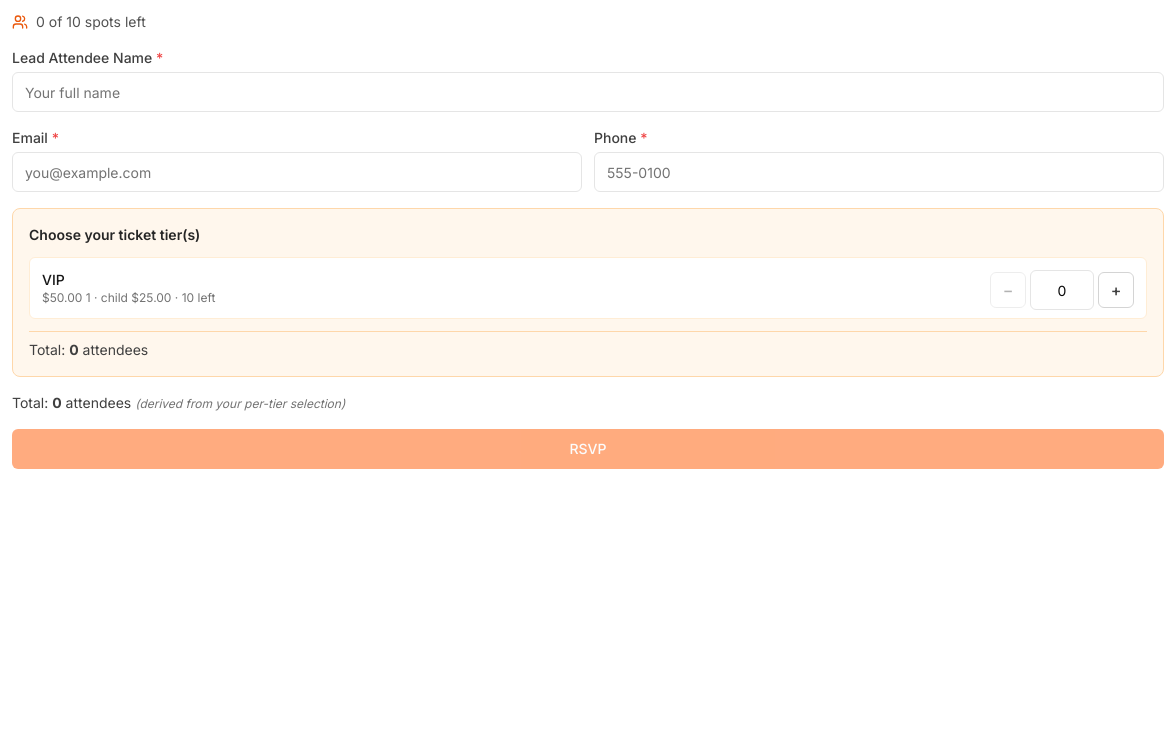
it: HeadCountRsvpForm — Phase 7F-E.4b merged layout › B4 + tiered: per-tier 4-leaf spinners visible after picking a ticket; top-level hidden
Expected: the field labelled "Adult Males" is not shown
Click the button named "Increment": (1116, 290) x1=1098 y1=272 x2=1134 y2=308
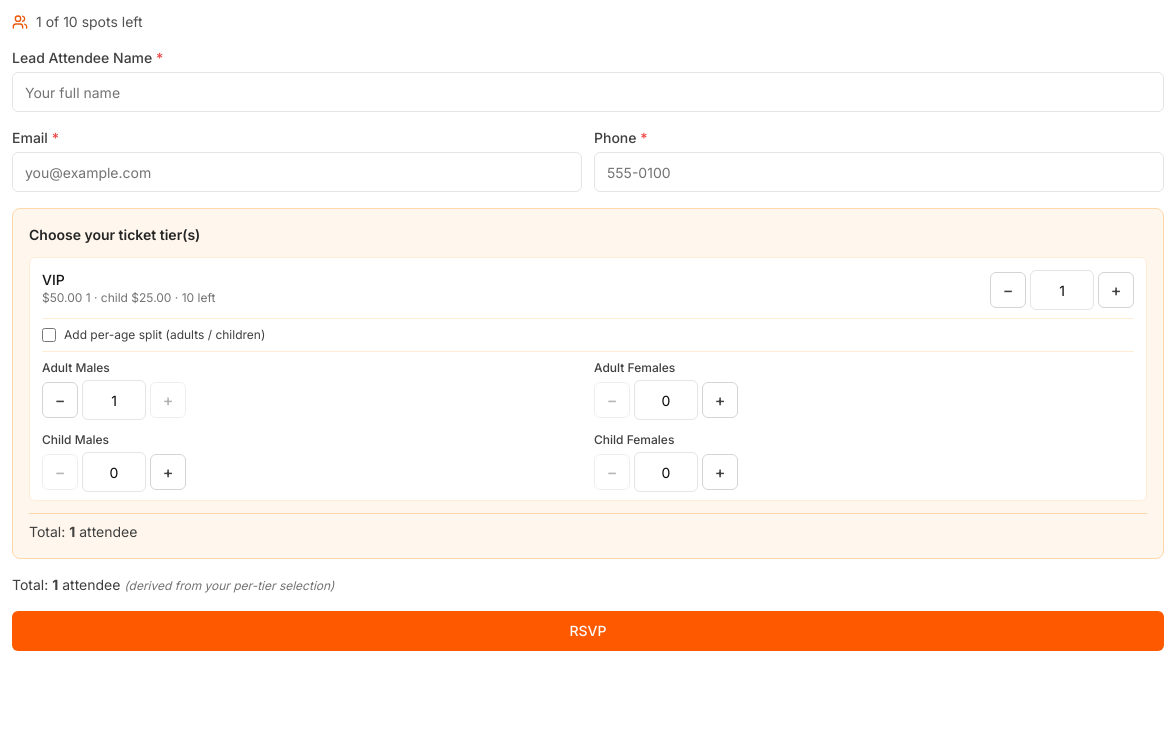
Expected: the number field labelled "Adult Females" is shown, x1=634 y1=380 x2=698 y2=420
Expected: the number field labelled "Child Males" is shown, x1=82 y1=452 x2=146 y2=492
Expected: the number field labelled "Child Females" is shown, x1=634 y1=452 x2=698 y2=492
